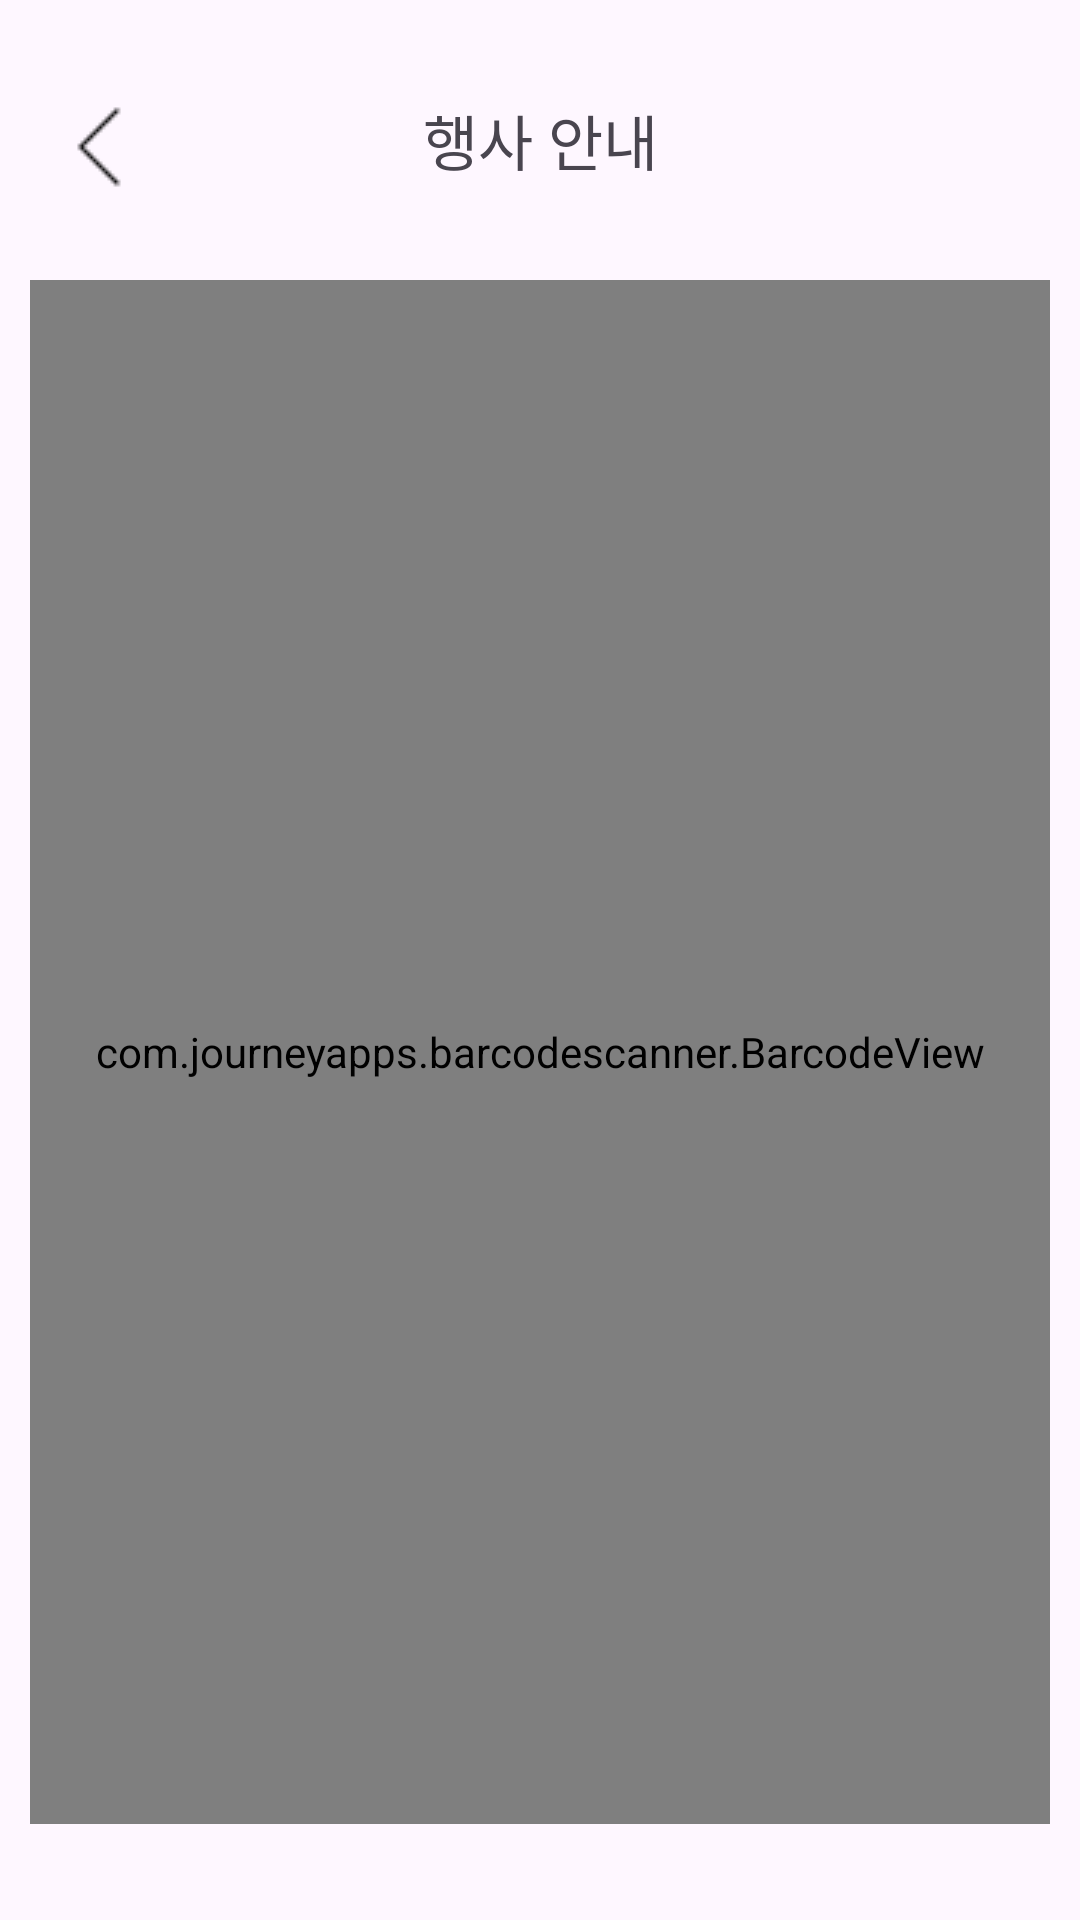

Point at icon controls on the screen. Image size 1080*1920, points as (x,y).
back: (99,147)
